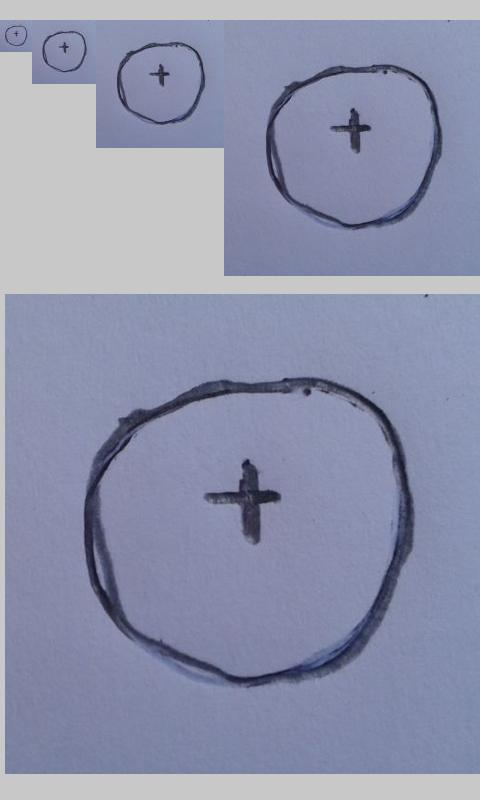button: (80, 375, 414, 691), (264, 63, 442, 231), (116, 41, 206, 125), (42, 30, 87, 73), (4, 25, 28, 47)
